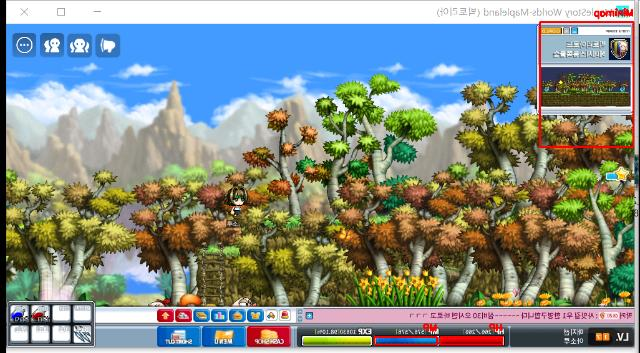me: (224, 182, 250, 230)
